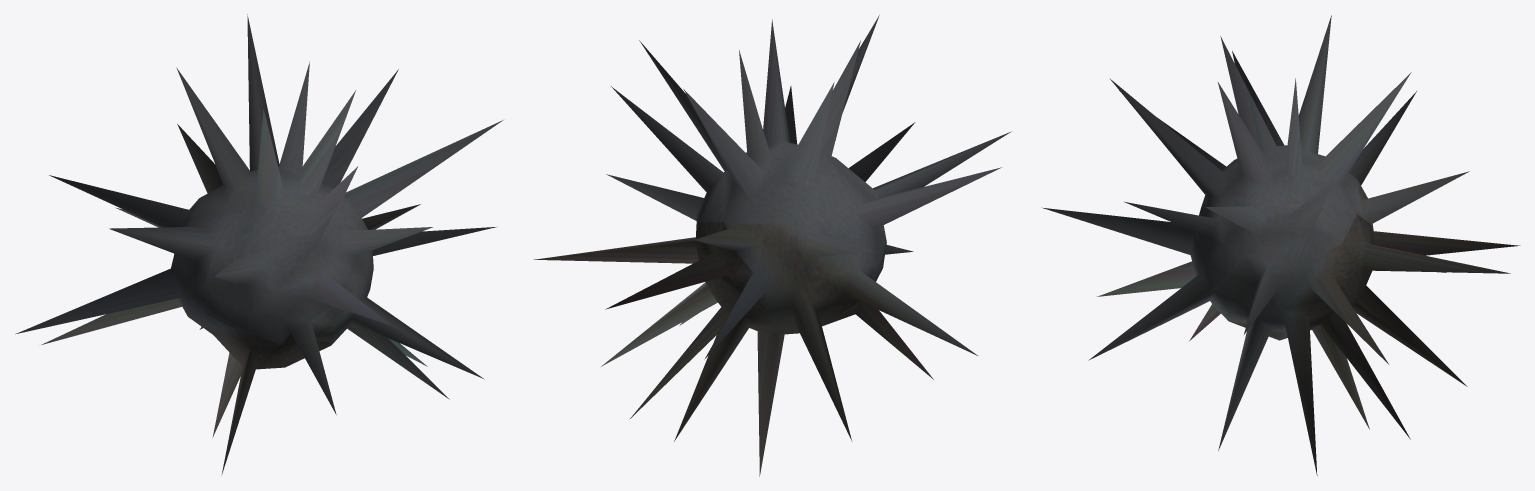
Rendered from CrystalThorn.fbx.
3 renders of one model, left to right at view 1: azimuth 30°, elevation 25°; view 2: azimuth 150°, elevation 25°; view 3: azimuth 270°, elevation 25°, orthographic. The views are drawn at different scales.
Parts seen in each view (by area): view 1: Sphere; view 2: Sphere; view 3: Sphere.
Boxes of the visible parts, x1=… form: Sphere: x1=15, y1=14, x2=503, y2=474; Sphere: x1=533, y1=15, x2=1011, y2=476; Sphere: x1=1042, y1=15, x2=1520, y2=475.
Bounding box in the file's own units: 0.5197 × 0.4601 × 0.5128.
